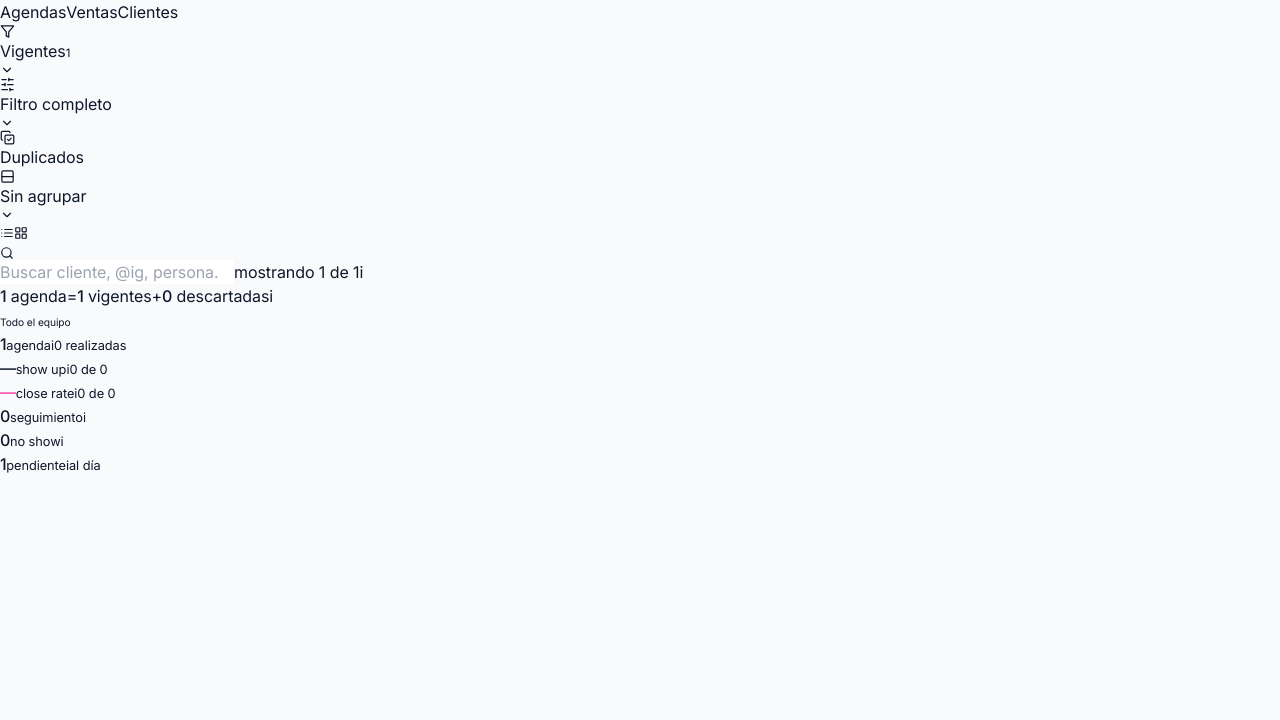
Test case: Duplicados · en Revisar › la tabla Agendas trae «Duplicados», que abre el panel con el período de Revisar
Step 1. Click the button "Duplicados" → (42, 150), box [0,130,84,169]
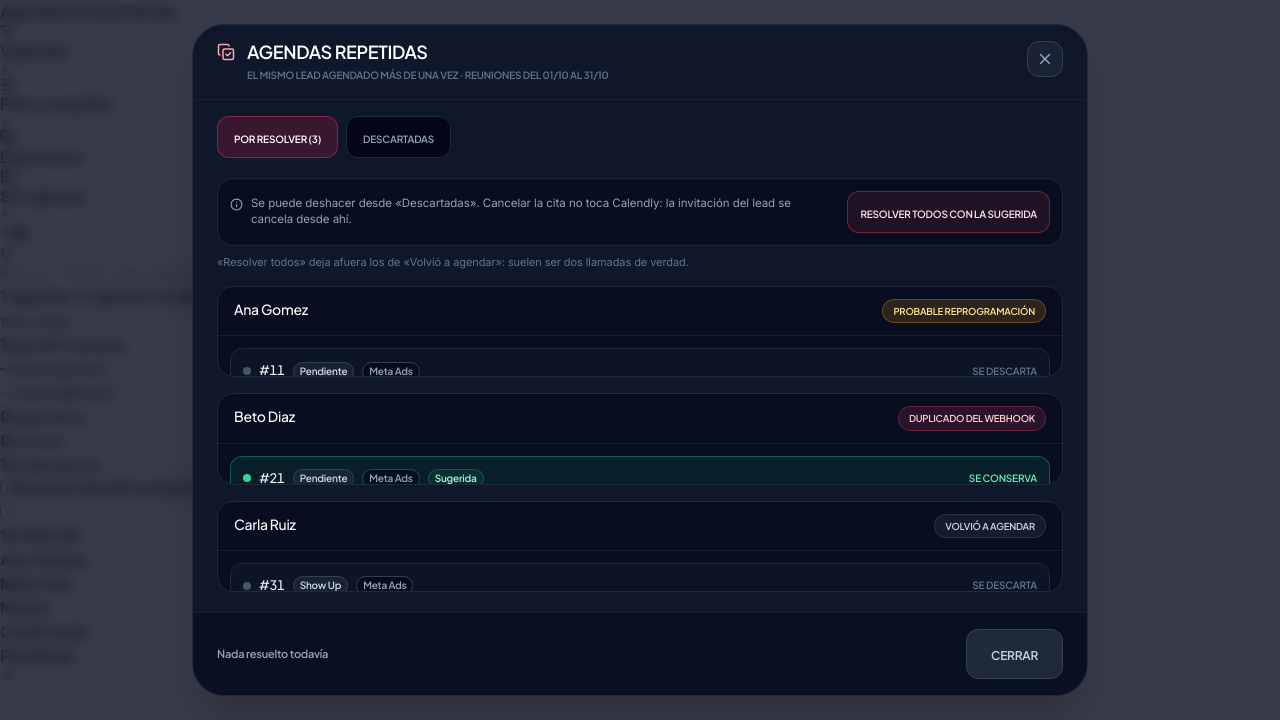
Result: the dialog "Agendas repetidas" is shown
